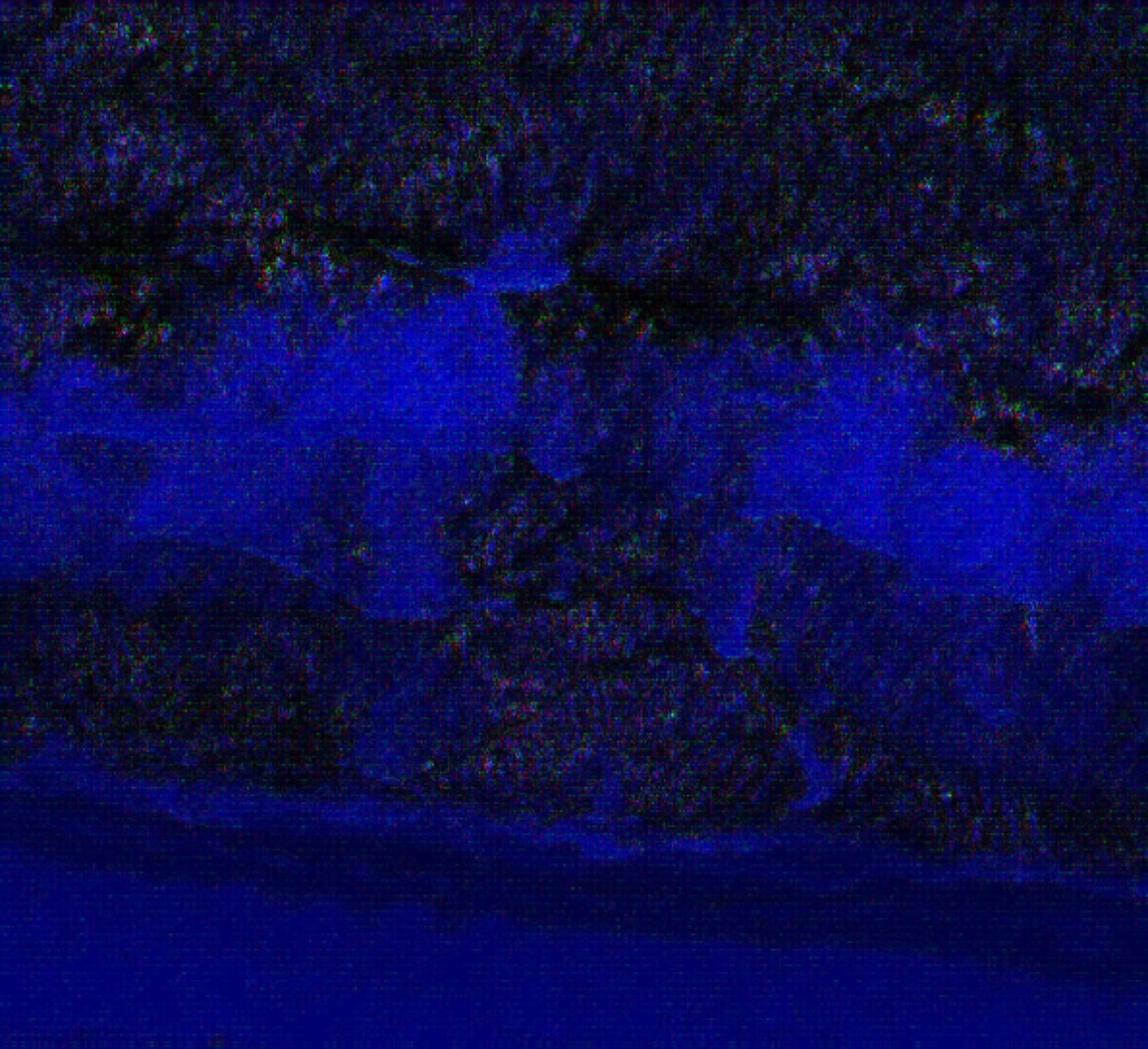rip_current: (396, 241, 818, 770)
